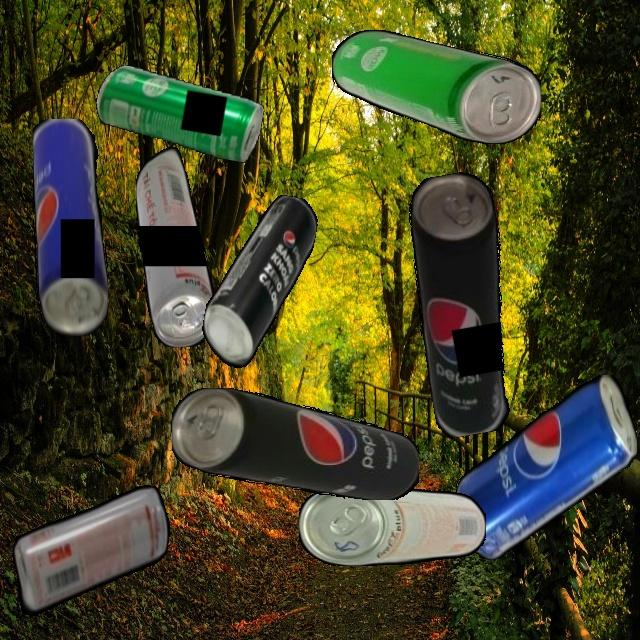debris: (395, 168, 533, 440), (455, 374, 637, 559), (3, 465, 177, 636), (172, 387, 419, 500), (196, 186, 321, 382), (331, 30, 541, 144), (90, 62, 267, 164), (32, 118, 108, 336), (135, 146, 214, 347), (299, 484, 486, 566)
